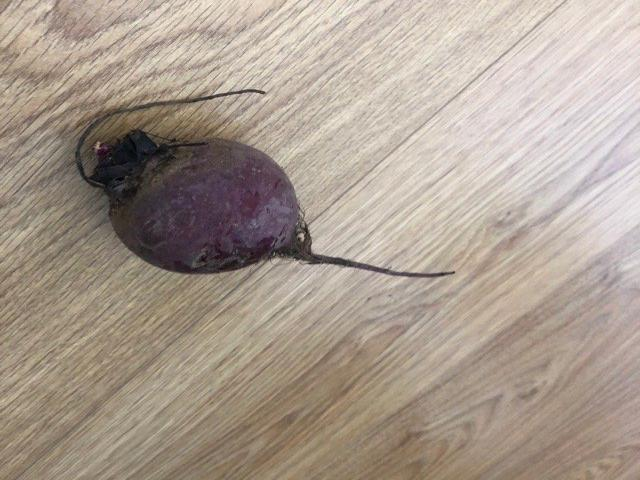beet: (75, 89, 455, 278)
